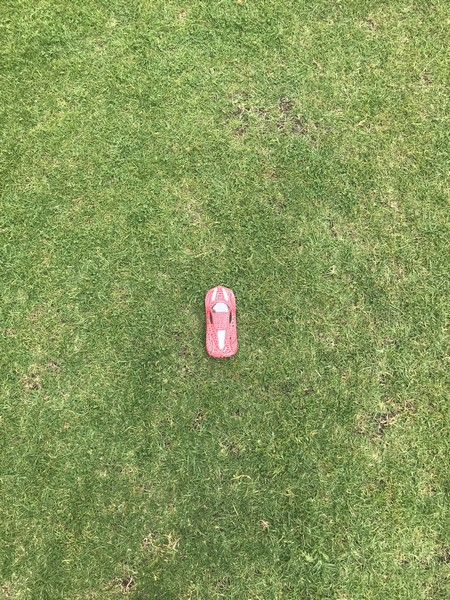RC: (203, 285, 241, 359)
